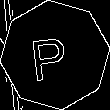P_N: (34, 28, 76, 82)
